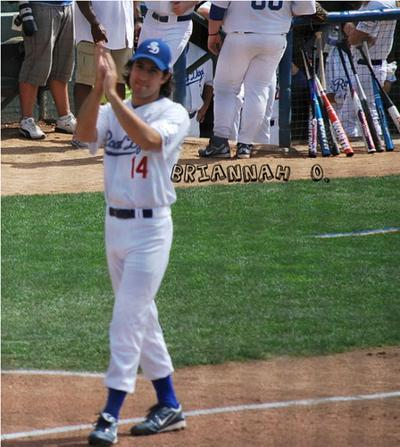person: (72, 34, 196, 446)
